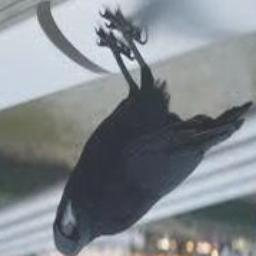Crow: (54, 8, 253, 256)
